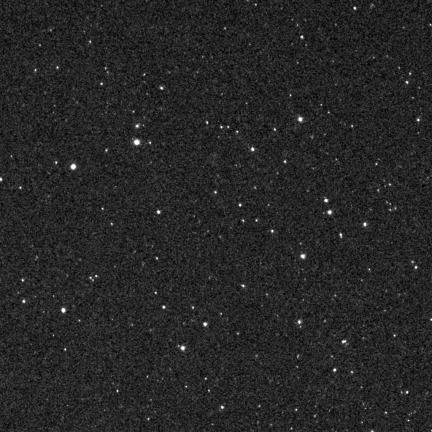blob: (134, 139, 140, 145), (62, 308, 67, 314), (71, 164, 76, 170), (300, 254, 305, 259)
